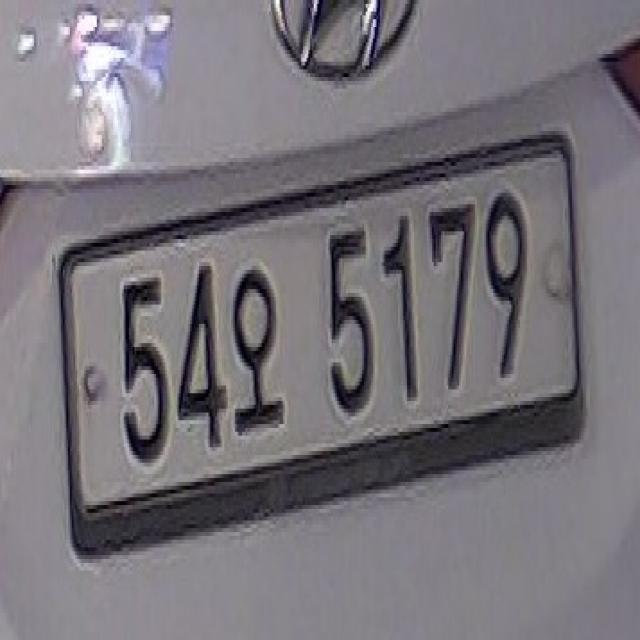1: (376, 204, 422, 415)
4: (172, 250, 230, 454)
5: (319, 210, 377, 416), (116, 263, 170, 467)
7: (424, 192, 478, 396)
9: (479, 177, 532, 381)
license_plate: (52, 103, 606, 604)
o: (230, 244, 286, 442)
